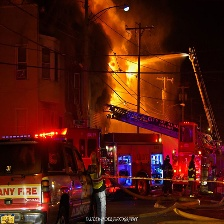fire: (109, 60, 124, 103)
smoke: (80, 1, 135, 58), (87, 24, 113, 110)
